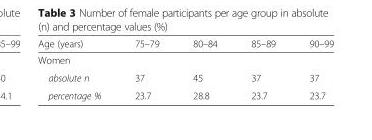table: (37, 37, 333, 100)
table column: (37, 37, 117, 100), (117, 37, 175, 100), (175, 37, 233, 100), (233, 37, 291, 100), (291, 37, 333, 100)
table column header: (37, 37, 333, 51)
table projected row header: (37, 51, 333, 68)
table row: (37, 68, 333, 86), (37, 51, 333, 68), (37, 37, 333, 51), (37, 86, 333, 100)
